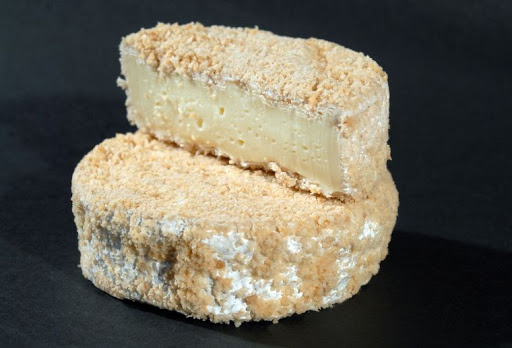camembert: (70, 129, 397, 327), (118, 19, 396, 201)
